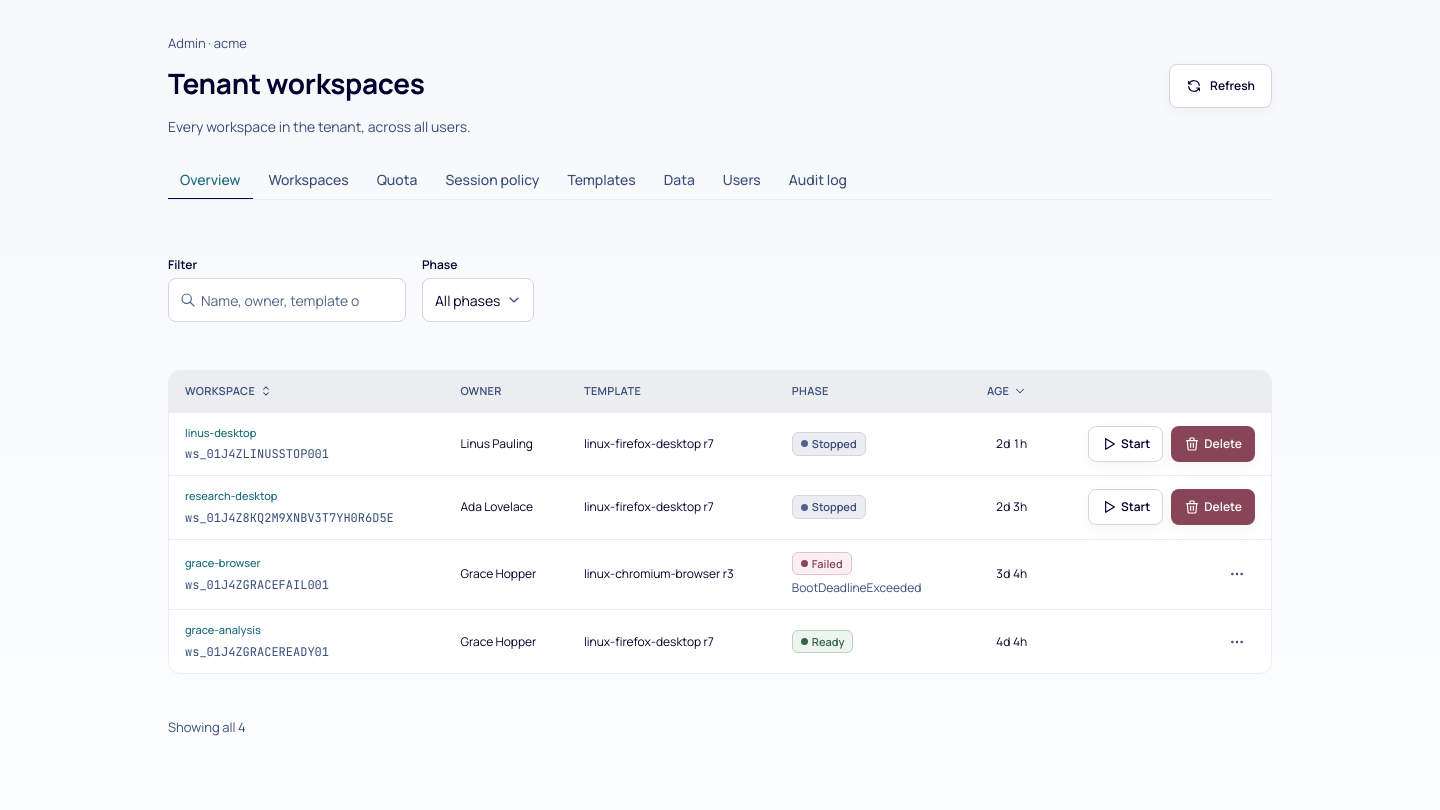
it: workspaces: admin actions › two or fewer row actions render inline; more fold into the row menu
expect the button with aria-label "Start linus-desktop" is shown: met, box left=1088, top=426, right=1163, bottom=462
expect the button with aria-label "Delete linus-desktop" is shown: met, box left=1171, top=426, right=1255, bottom=462
Click the button named "Actions for grace-analysis".
click(1237, 642)  # box left=1219, top=624, right=1255, bottom=660
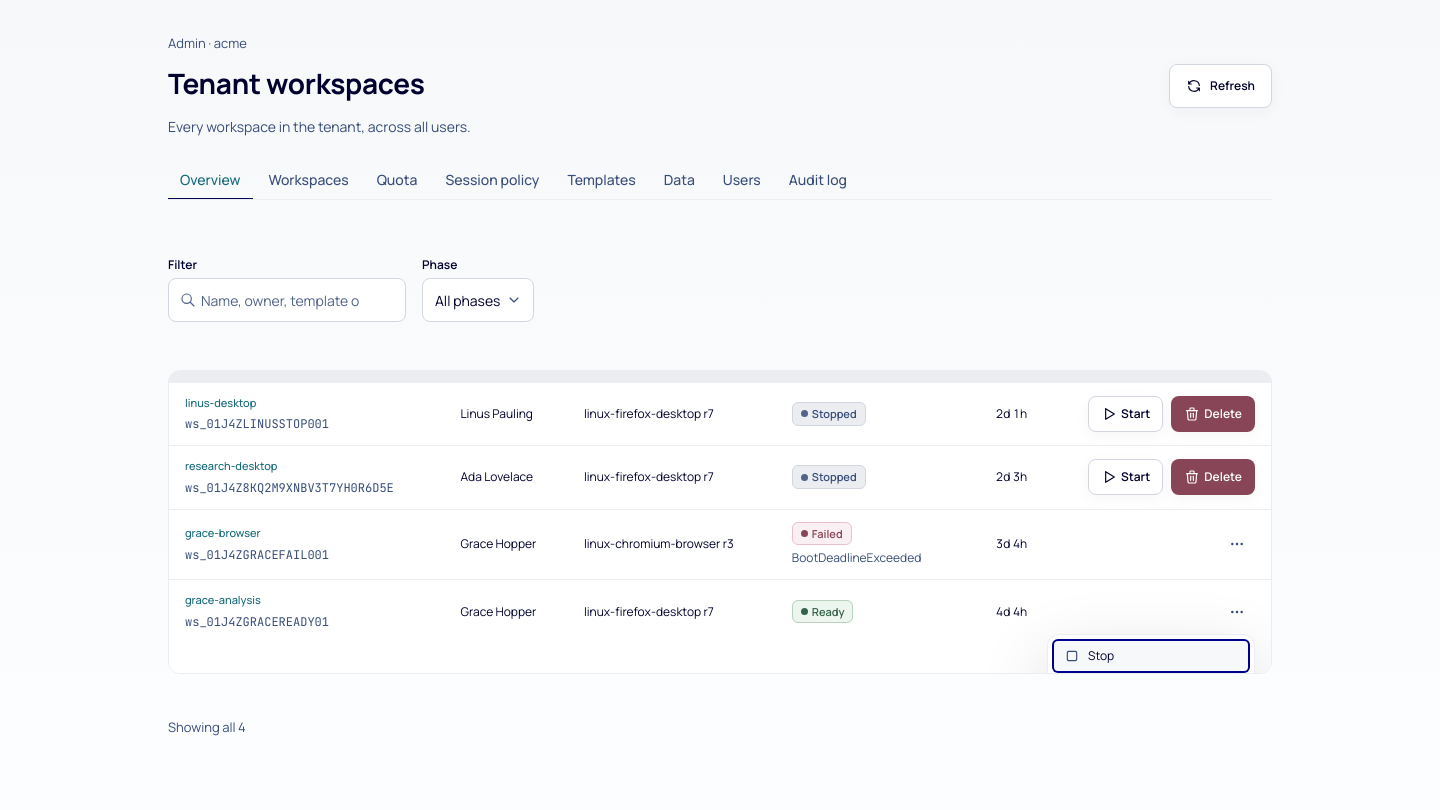
expect the menu item "Stop" is shown: met, box left=1052, top=638, right=1250, bottom=672
